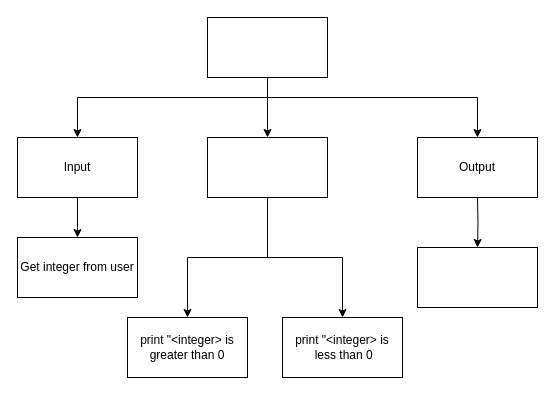
Image size: 555x395. Some labels were removed from this diagram. Each missing label, with the centre of its shape:
Guessing Game: (x=267, y=47)
Process: (x=267, y=167)
Show answer: (x=477, y=277)
